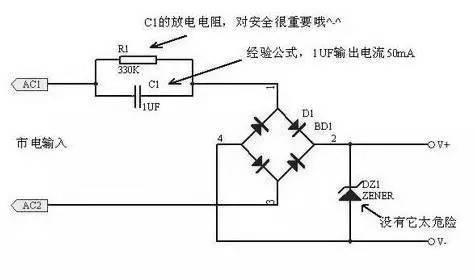bridge: (236, 104, 319, 184)
cap1: (132, 83, 144, 109)
diode: (337, 179, 366, 205)
res1: (116, 54, 160, 67)
